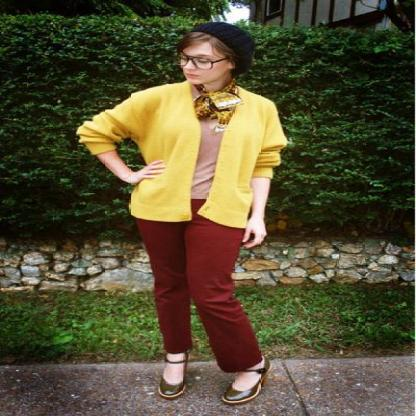hat: (193, 20, 253, 74)
jacket: (76, 81, 293, 228)
pants: (135, 199, 262, 372)
shirt: (187, 125, 226, 200)
shoe: (163, 363, 270, 400)
